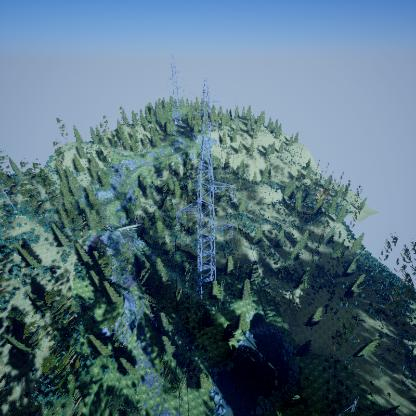tower: (172, 137, 237, 305)
